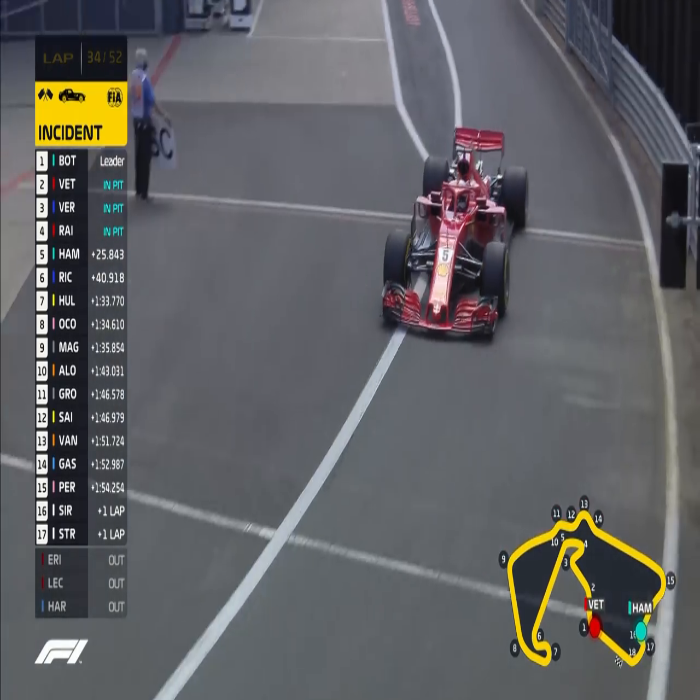f1_car: (369, 115, 543, 353)
